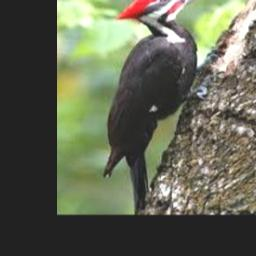Woodpecker: (104, 0, 218, 214)
